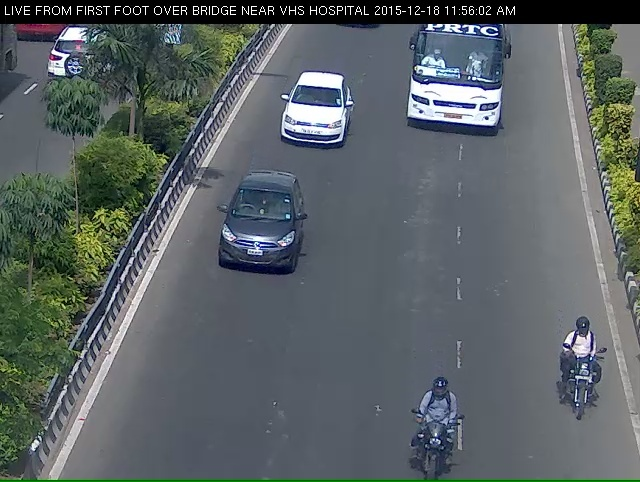Bus: (400, 17, 518, 149)
Car: (205, 187, 307, 298), (271, 77, 351, 156)
Person: (557, 321, 612, 459), (409, 410, 470, 480)
